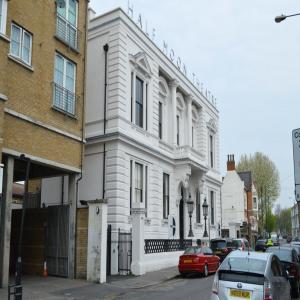Vehicle-registration-plate: (231, 291, 252, 300), (186, 259, 192, 265)
